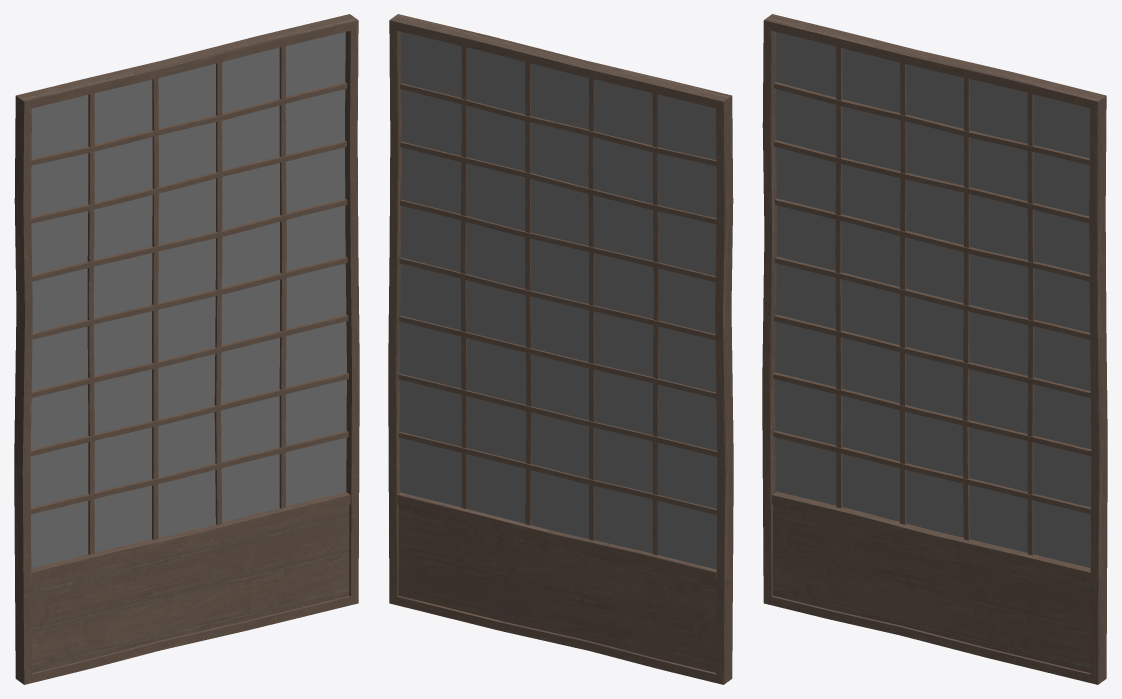
Rendered from Door.fbx.
3 views of the same model, side by side, from view 1: azimuth 30°, elevation 25°; view 2: azimuth 150°, elevation 25°; view 3: azimuth 330°, elevation 25° (orthographic).
Parts seen in each view (by area): view 1: Door; view 2: Door; view 3: Door.
Part boxes in pixels (x1,y1,x2,y2): Door: [14, 14, 359, 684]; Door: [388, 14, 733, 684]; Door: [762, 14, 1107, 684].
Size of the model in its own units: 145 by 240 by 6.38.
